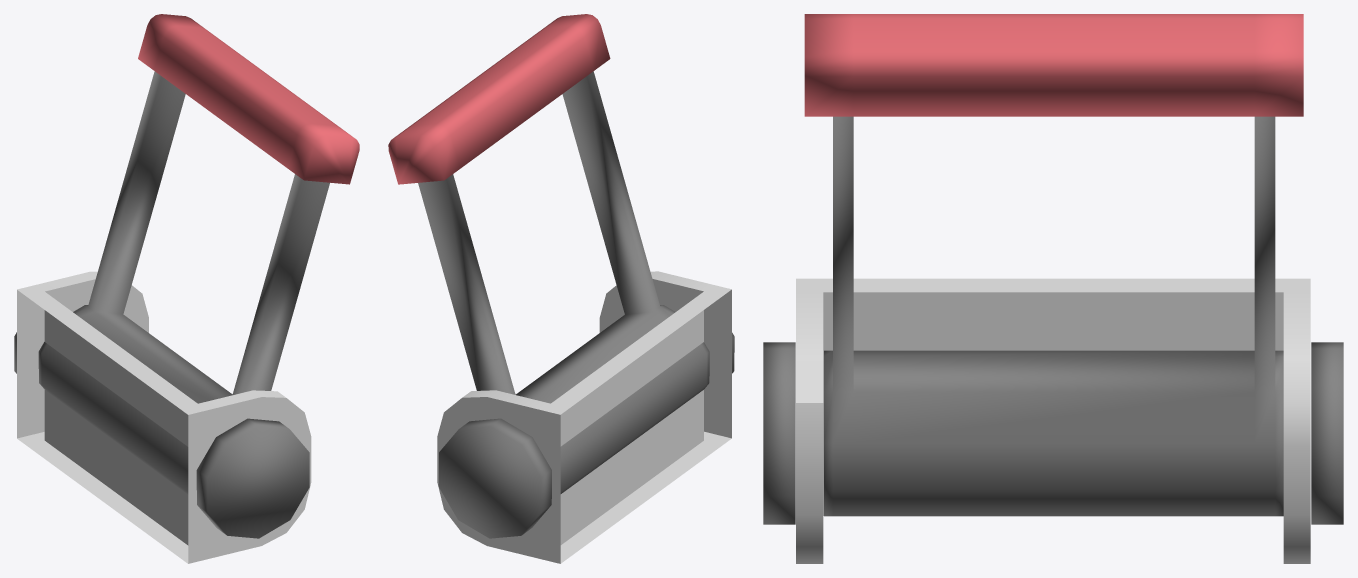
File: alavanca.fbx
The picture shows the model from 3 angles, left to right: view 1: azimuth 30°, elevation 25°; view 2: azimuth 150°, elevation 25°; view 3: azimuth 270°, elevation 25°; orthographic projection. The views are drawn at different scales.
Visible parts, largest first — view 1: Alavanca, Dobradiça; view 2: Alavanca, Dobradiça; view 3: Alavanca, Dobradiça.
Boxes of the visible parts, x1=… form: Alavanca: x1=14, y1=14, x2=359, y2=538; Dobradiça: x1=17, y1=271, x2=311, y2=563; Alavanca: x1=388, y1=14, x2=734, y2=538; Dobradiça: x1=437, y1=271, x2=731, y2=563; Alavanca: x1=763, y1=14, x2=1343, y2=524; Dobradiça: x1=796, y1=278, x2=1310, y2=563.
Bounding box in the file's own units: 31 × 66.55 × 59.51.
